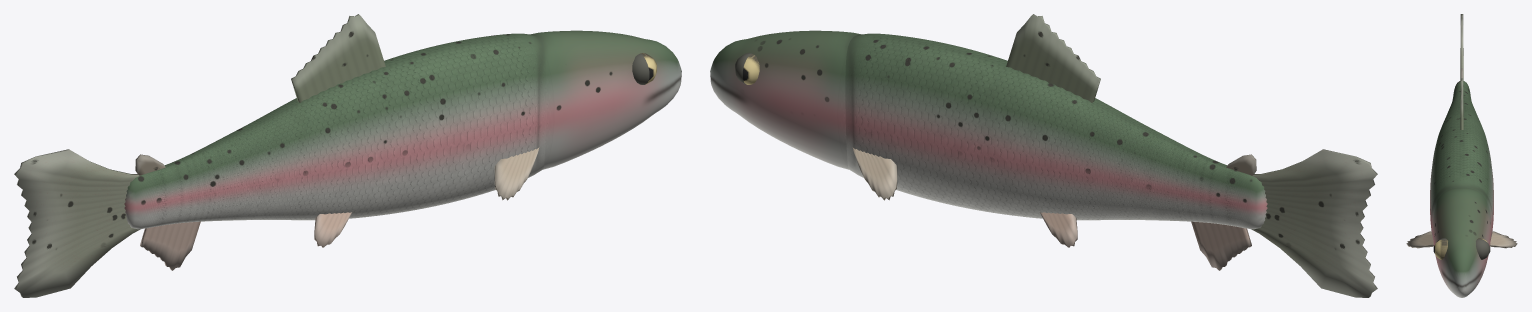
File: fish_trout.fbx
3 views of the same model, side by side, from view 1: azimuth 30°, elevation 25°; view 2: azimuth 150°, elevation 25°; view 3: azimuth 270°, elevation 25° (orthographic). The views are drawn at different scales.
Parts seen in each view (by area): view 1: fish_trout; view 2: fish_trout; view 3: fish_trout.
Boxes of the visible parts, x1,y1,x2,y2 form: fish_trout: (14, 14, 681, 297); fish_trout: (710, 14, 1377, 297); fish_trout: (1406, 14, 1517, 297).
Size of the model in its own units: 39.88 by 12.01 by 8.35.
Materials: 1 (1 with a texture image).
